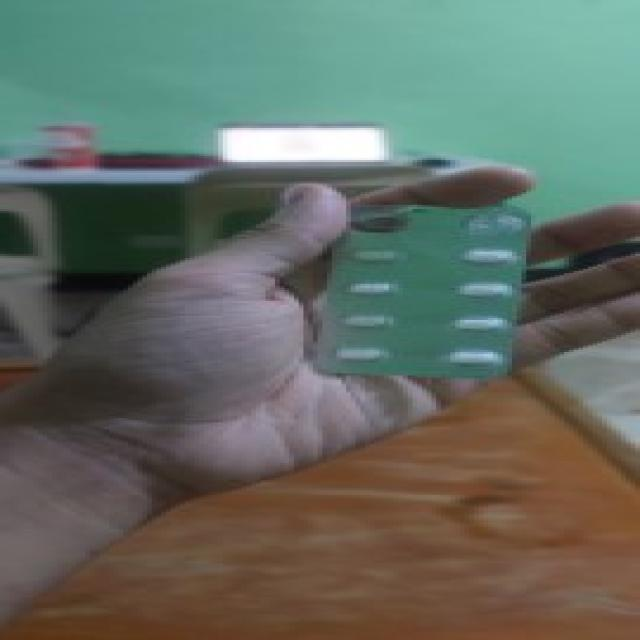Cacat: (308, 179, 531, 380)
Kemasan: (330, 207, 422, 239), (451, 204, 528, 241)
